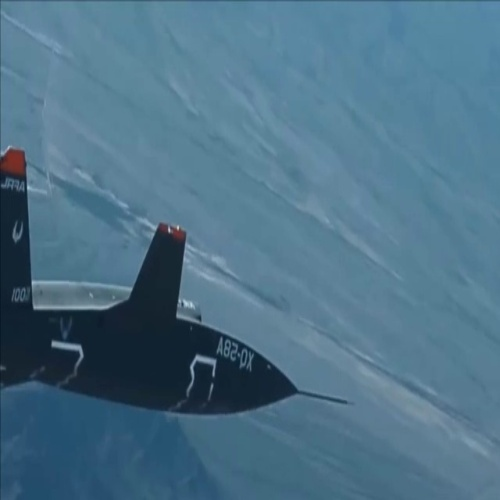uav968: (1, 146, 354, 425)
